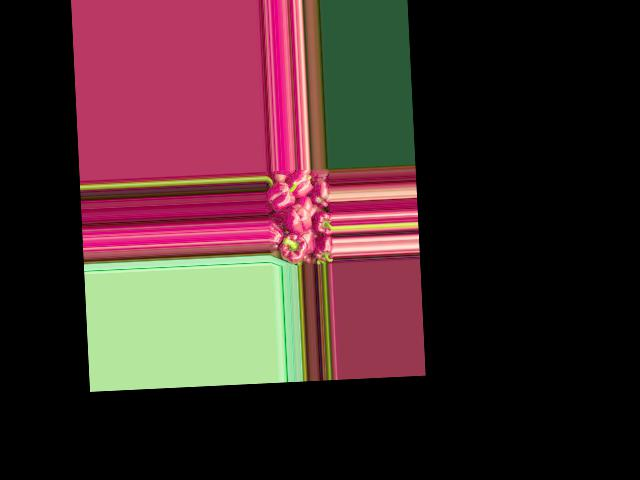bell_pepper: (313, 236, 333, 262)
